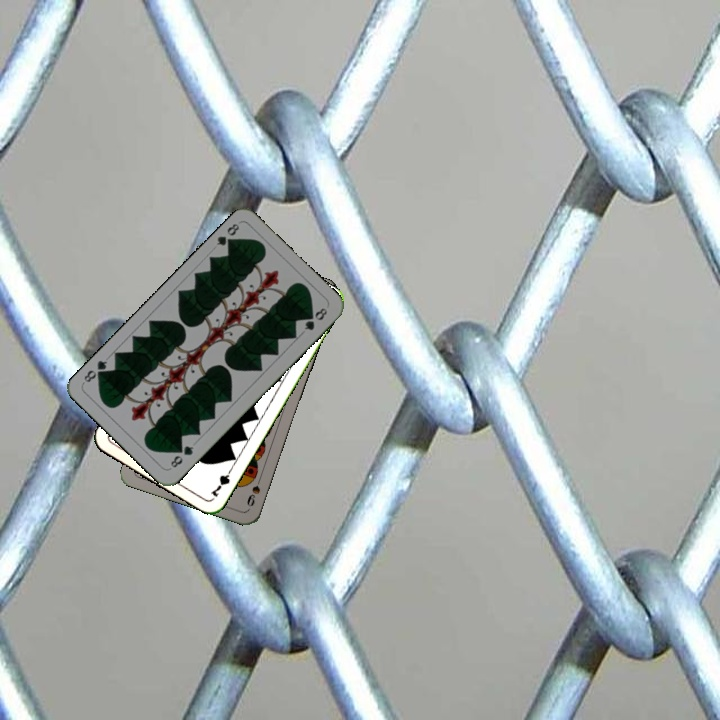G7: (206, 463, 236, 499)
G8: (212, 219, 242, 251), (166, 441, 196, 471)
S9: (243, 471, 264, 509)
